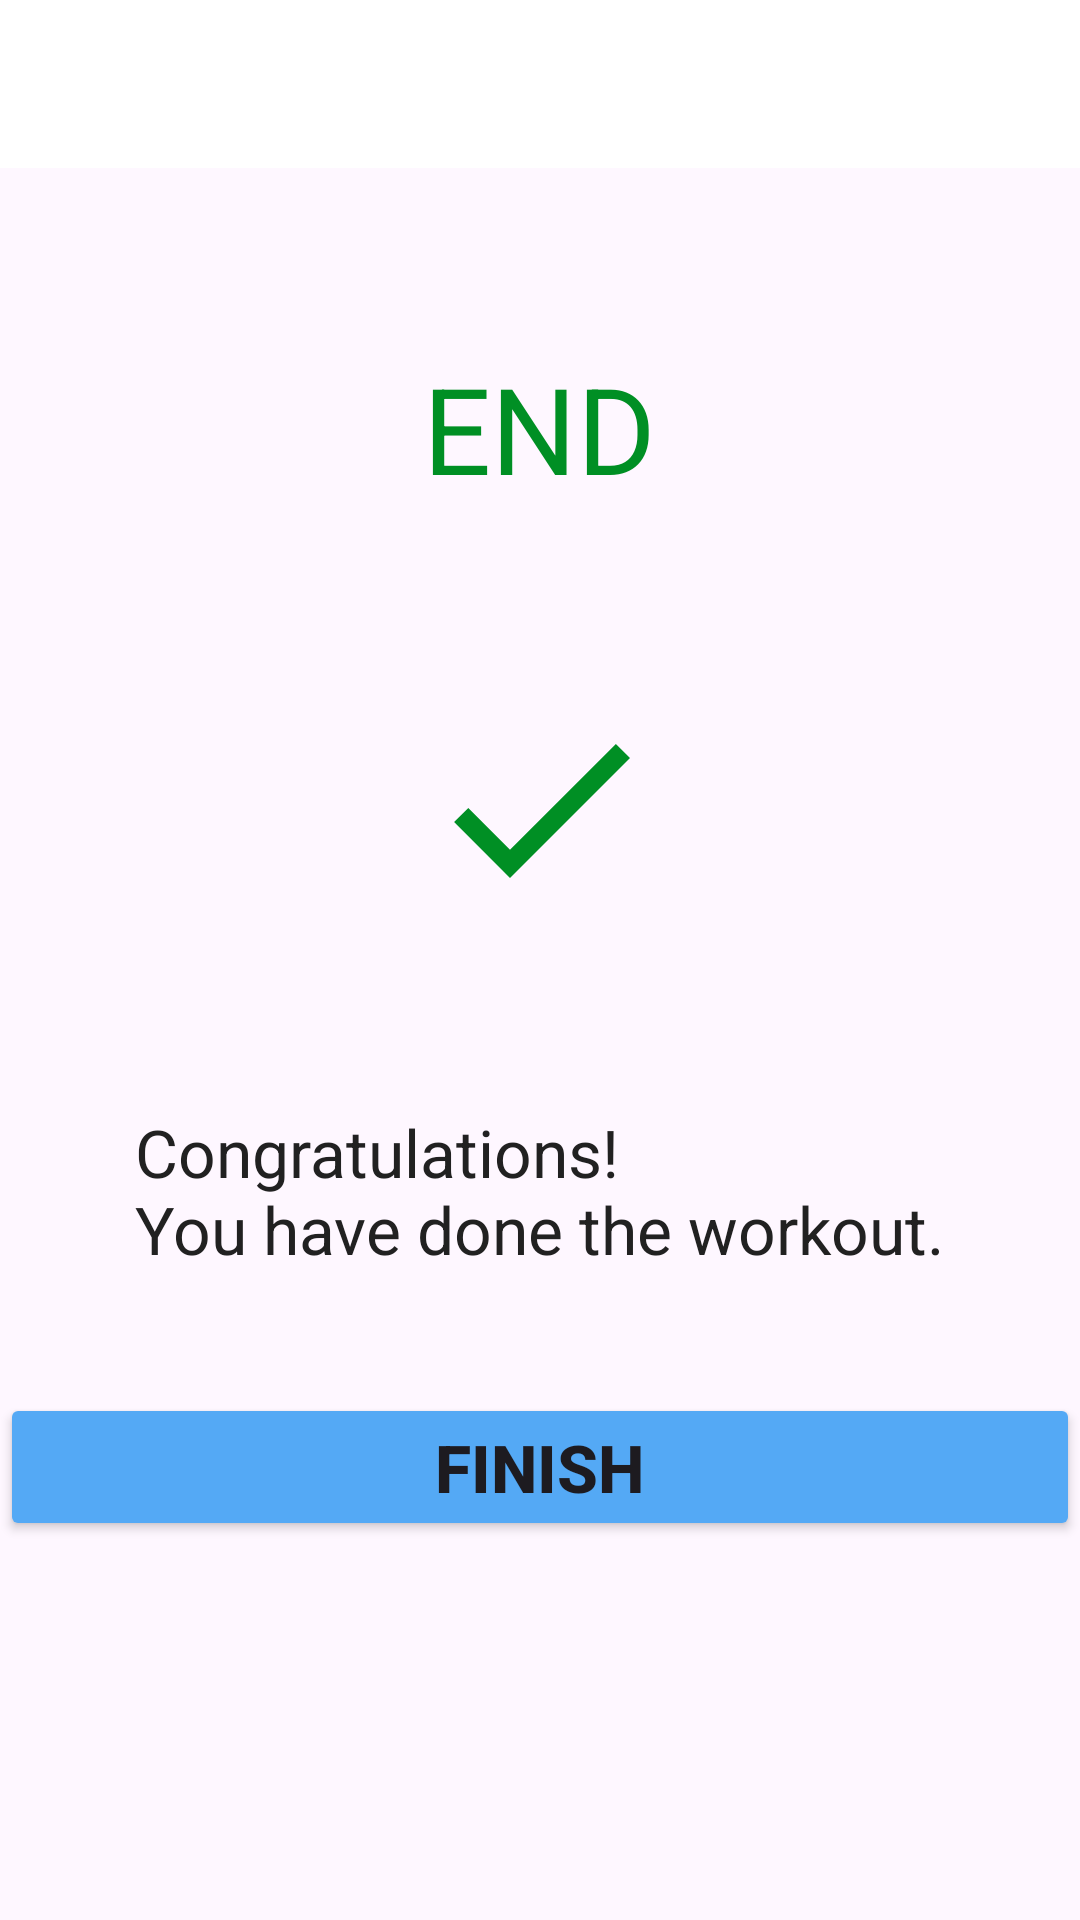

Icon click points for this 1080 × 1920 phone screenshot, format (x,y):
Check sign image: (542,811)
